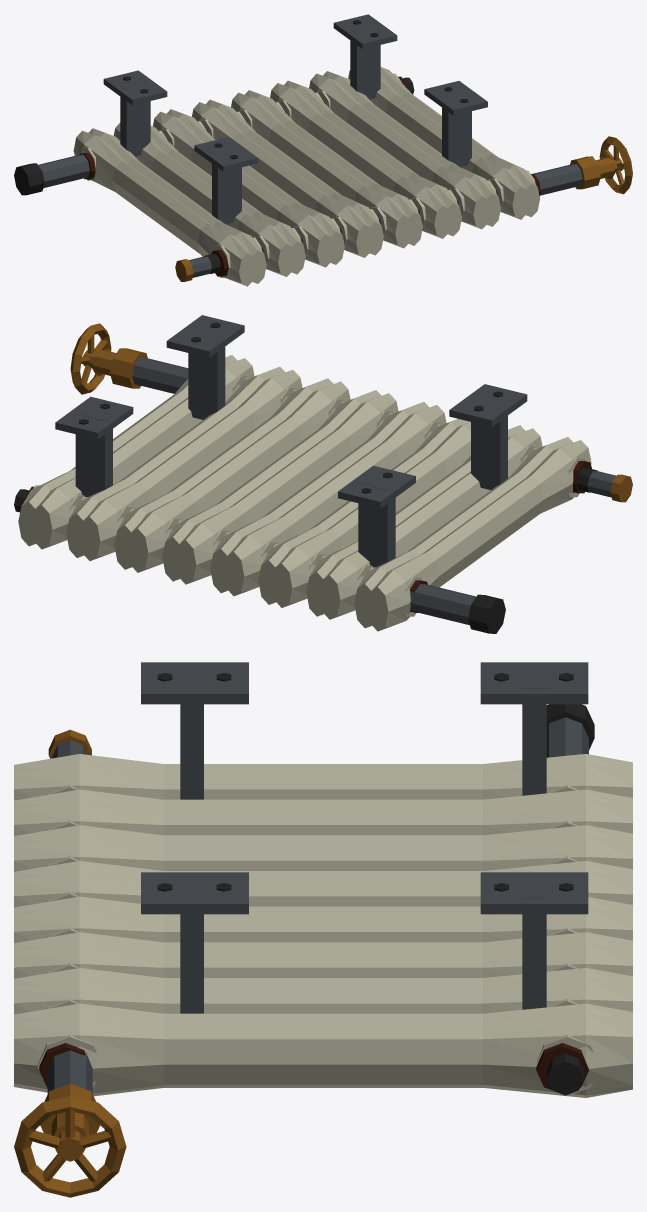
Rendered from SM_ApartmentRadiator_2026_LOD1.obj.
3 renders of one model, top to bottom at view 1: azimuth 30°, elevation 25°; view 2: azimuth 150°, elevation 25°; view 3: azimuth 270°, elevation 25°, orthographic. The views are drawn at different scales.
Visible parts, largest first — view 1: cast_section_0_vertical, cast_section_5_vertical, cast_section_4_vertical, cast_section_6_vertical, cast_section_3_vertical, cast_section_2_vertical, cast_section_1_vertical, cast_section_7_vertical, wall_bracket_lower_arm, wall_bracket_upper_arm, wall_anchor_backplate, wall_anchor_lower_plate (+9 smaller); view 2: cast_section_0_vertical, cast_section_4_vertical, cast_section_5_vertical, cast_section_6_vertical, cast_section_3_vertical, cast_section_2_vertical, cast_section_1_vertical, cast_section_7_vertical, wall_bracket_lower_arm, wall_bracket_upper_arm, wall_anchor_backplate, wall_anchor_lower_plate (+11 smaller); view 3: cast_section_7_vertical, cast_section_1_vertical, cast_section_2_vertical, cast_section_0_vertical, cast_section_5_vertical, cast_section_6_vertical, cast_section_4_vertical, cast_section_3_vertical, wall_anchor_backplate, wall_anchor_lower_plate, wall_bracket_lower_arm, wall_bracket_upper_arm (+11 smaller).
Boxes of the visible parts, x1,y1,x2,y2 form: cast_section_0_vertical: (73,128,266,286); cast_section_5_vertical: (270,80,461,238); cast_section_4_vertical: (231,90,422,248); cast_section_6_vertical: (309,71,500,229); cast_section_3_vertical: (192,99,383,257); cast_section_2_vertical: (153,109,344,267); cast_section_1_vertical: (113,122,305,276); cast_section_7_vertical: (348,67,539,219); wall_bracket_lower_arm: (120,23,380,156); wall_bracket_upper_arm: (212,107,471,224); wall_anchor_backplate: (194,81,487,171); wall_anchor_lower_plate: (103,14,397,105); cast_section_0_vertical: (354,437,591,631); cast_section_4_vertical: (162,390,398,584); cast_section_5_vertical: (114,378,350,572); cast_section_6_vertical: (66,366,302,560); cast_section_3_vertical: (210,402,446,596); cast_section_2_vertical: (258,419,470,607); cast_section_1_vertical: (306,425,542,619); cast_section_7_vertical: (18,355,254,549); wall_bracket_lower_arm: (75,408,395,567); wall_bracket_upper_arm: (188,347,507,489); wall_anchor_backplate: (166,315,527,426); wall_anchor_lower_plate: (55,396,415,508); cast_section_7_vertical: (14,1003,632,1097); cast_section_1_vertical: (14,789,632,835); cast_section_2_vertical: (14,825,632,871); cast_section_0_vertical: (14,754,632,800); cast_section_5_vertical: (14,932,632,978); cast_section_6_vertical: (14,968,632,1014); cast_section_4_vertical: (14,896,632,943); cast_section_3_vertical: (14,861,632,907); wall_anchor_backplate: (141,662,248,914); wall_anchor_lower_plate: (480,662,588,914); wall_bracket_lower_arm: (522,666,546,1009); wall_bracket_upper_arm: (180,704,203,1013).
Bounding box in the file's own units: 1.07 × 0.23 × 0.66.
